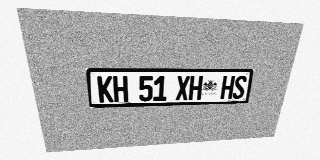1: (153, 76, 167, 101)
5: (139, 76, 153, 101)
H: (113, 76, 128, 102), (188, 76, 203, 100), (220, 76, 235, 99)
K: (97, 76, 114, 103)
S: (232, 76, 247, 99)
X: (175, 76, 190, 100)
